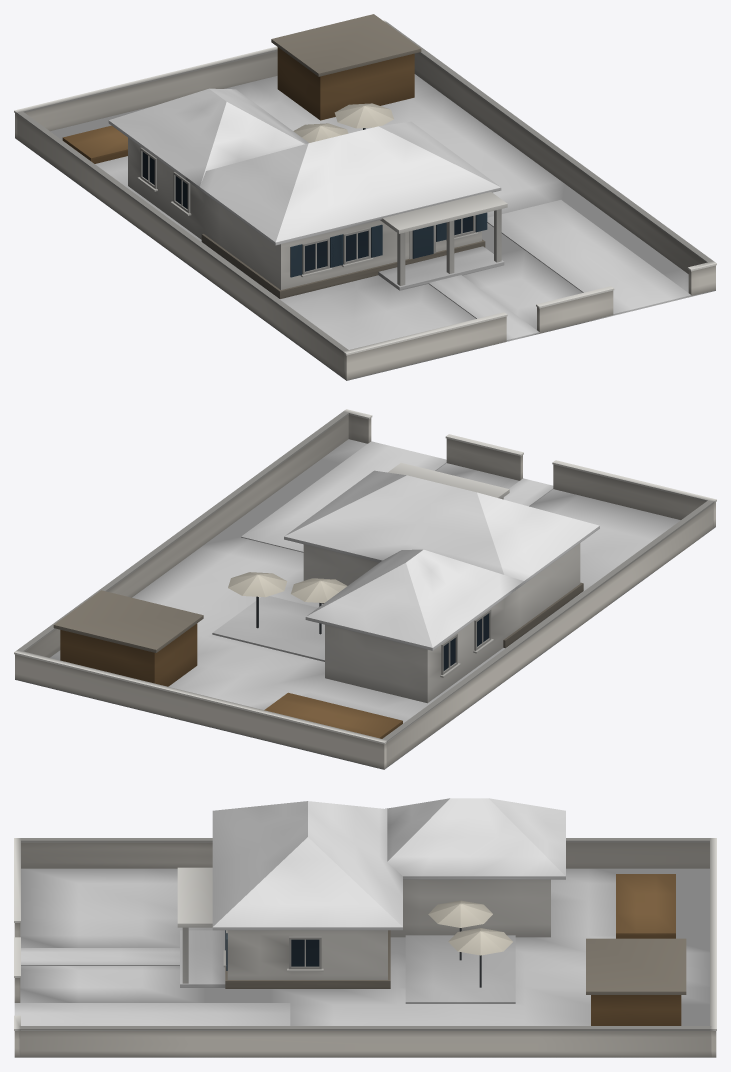
The model's file is chalet-C2inzh9j.glb.
3 views of the same model, one above another, from view 1: azimuth 30°, elevation 25°; view 2: azimuth 150°, elevation 25°; view 3: azimuth 270°, elevation 25° (orthographic). The views are drawn at different scales.
Visible parts, largest first — view 1: pasto, techo, techo.001, pieza.012, pieza.008, pieza.010, pieza.015, pieza.006, pieza.025, pieza.026, pieza, pieza.016 (+14 smaller); view 2: pasto, techo, techo.001, pieza.006, pieza.008, pieza.016, pieza.010, pieza.012, pieza.026, pieza.015, pieza.025, pieza.022 (+13 smaller); view 3: pasto, techo, pieza.010, techo.001, pieza.008, pieza.016, pieza.015, pieza.022, pieza.012, pieza.026, pieza.027, pieza.011 (+11 smaller).
Boxes of the visible parts, box(x1,y1,x2,y2) form: pasto: box(15, 74, 715, 380); techo: box(185, 121, 501, 245); techo.001: box(108, 88, 308, 186); pieza.012: box(487, 200, 691, 314); pieza.008: box(17, 115, 343, 377); pieza.010: box(414, 52, 705, 273); pieza.015: box(205, 194, 481, 289); pieza.006: box(15, 51, 277, 139); pieza.025: box(277, 47, 414, 120); pieza.026: box(271, 14, 421, 76); pieza: box(344, 316, 506, 379); pieza.016: box(128, 138, 204, 239); pasto: box(15, 439, 715, 769); techo: box(284, 470, 599, 591); techo.001: box(305, 549, 523, 650); pieza.006: box(15, 654, 386, 769); pieza.008: box(387, 504, 713, 766); pieza.016: box(325, 598, 504, 703); pieza.010: box(25, 415, 348, 657); pieza.012: box(241, 441, 446, 552); pieza.026: box(53, 590, 203, 652); pieza.015: box(303, 543, 580, 638); pieza.025: box(60, 623, 197, 686); pieza.022: box(212, 596, 324, 661); pasto: box(15, 868, 714, 1057); techo: box(212, 801, 402, 930); pieza.010: box(20, 1031, 710, 1057); techo.001: box(385, 798, 565, 879); pieza.008: box(21, 842, 709, 868); pieza.016: box(390, 879, 550, 937); pieza.015: box(227, 930, 387, 979); pieza.022: box(405, 935, 515, 1003); pieza.012: box(14, 1003, 290, 1025); pieza.026: box(586, 938, 686, 994); pieza.027: box(616, 874, 675, 938); pieza.011: box(19, 1026, 711, 1030).
Bounding box in the file's own units: 18.06 × 5.2 × 28.06.
